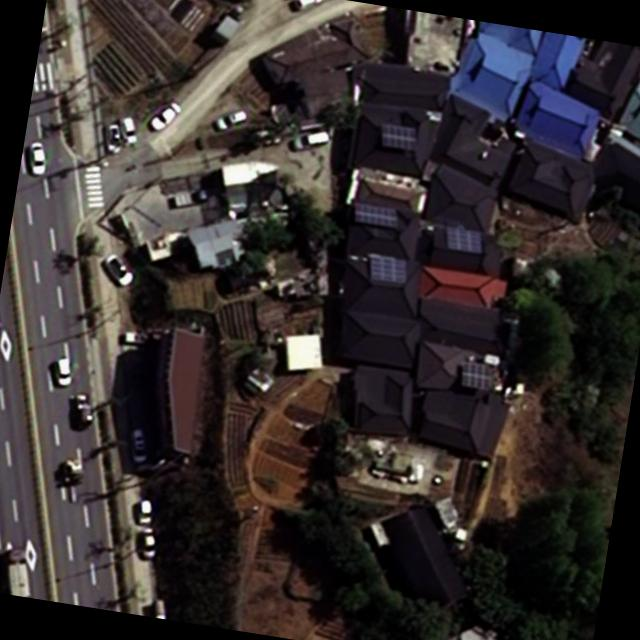solar: (348, 200, 403, 230), (374, 121, 422, 153), (364, 254, 410, 286), (442, 224, 486, 256), (457, 360, 493, 392)
